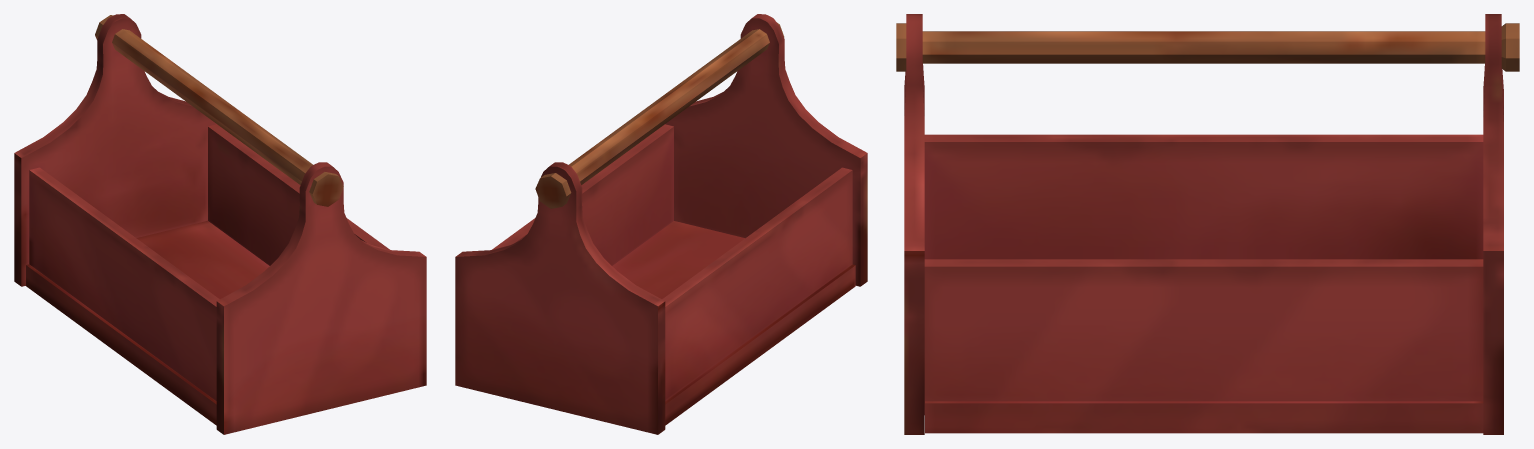
The model's file is ToolBox.fbx.
3 views of the same model, side by side, from view 1: azimuth 30°, elevation 25°; view 2: azimuth 150°, elevation 25°; view 3: azimuth 270°, elevation 25° (orthographic). The views are drawn at different scales.
Visible parts, largest first — view 1: ToolBox_low; view 2: ToolBox_low; view 3: ToolBox_low.
Boxes of the visible parts, left/top/right/bottom form: ToolBox_low: left=14, top=14, right=426, bottom=434; ToolBox_low: left=455, top=14, right=867, bottom=434; ToolBox_low: left=896, top=14, right=1519, bottom=434.
Size of the model in its own units: 0.438 by 0.5027 by 0.8147.
